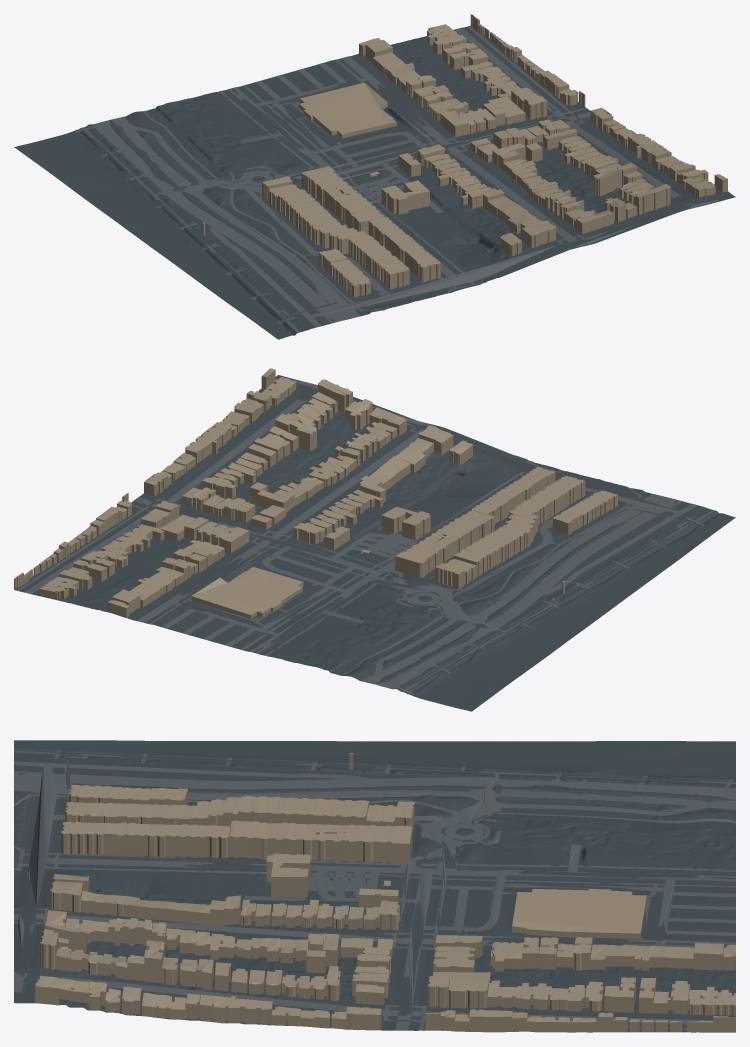
Rendered from epsg26910-1414-10887.lod0.glb.
3 renders of one model, top to bottom at view 1: azimuth 30°, elevation 25°; view 2: azimuth 150°, elevation 25°; view 3: azimuth 270°, elevation 25°, orthographic. The views are drawn at different scales.
Parts seen in each view (by area): view 1: epsg26910-1414-10887-lod0; view 2: epsg26910-1414-10887-lod0; view 3: epsg26910-1414-10887-lod0.
Part boxes in pixels (bbox=[...]): epsg26910-1414-10887-lod0: bbox=[14, 14, 735, 339]; epsg26910-1414-10887-lod0: bbox=[14, 368, 735, 711]; epsg26910-1414-10887-lod0: bbox=[14, 740, 735, 1032].
Size of the model in its own units: 384 by 38.76 by 384.
